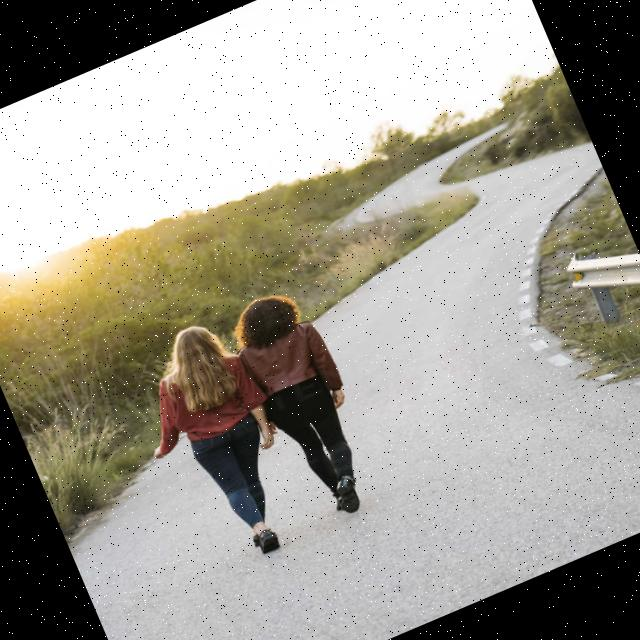Person: (116, 310, 320, 579), (224, 280, 394, 527)
